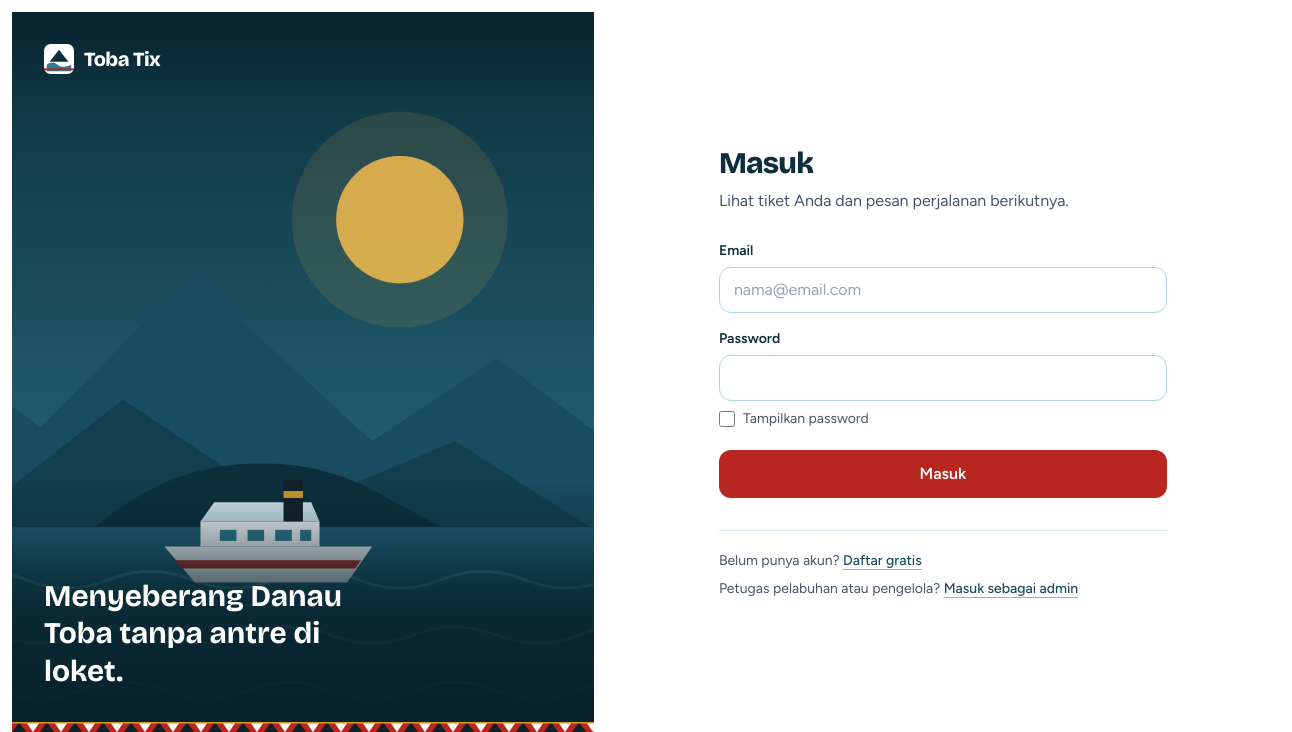
Test case: LoginPage › login gagal menampilkan pesan dan error per field, tetap di halaman login
This screenshot has width=1292, height=732.
Type "budi@test.com" into the field with id "username" at (943, 290), box [719,267,1167,313]
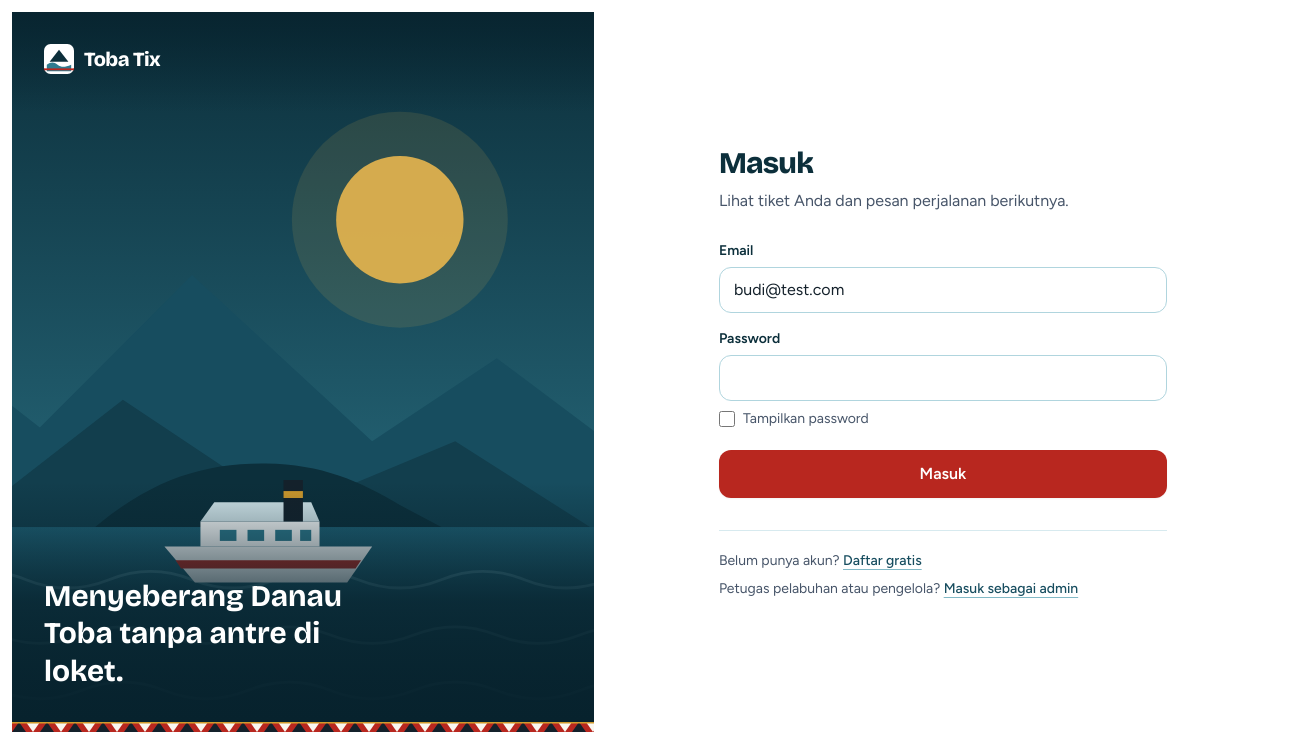
Type "salah" into the password field labelled "Password" at (943, 378), box [719,355,1167,401]
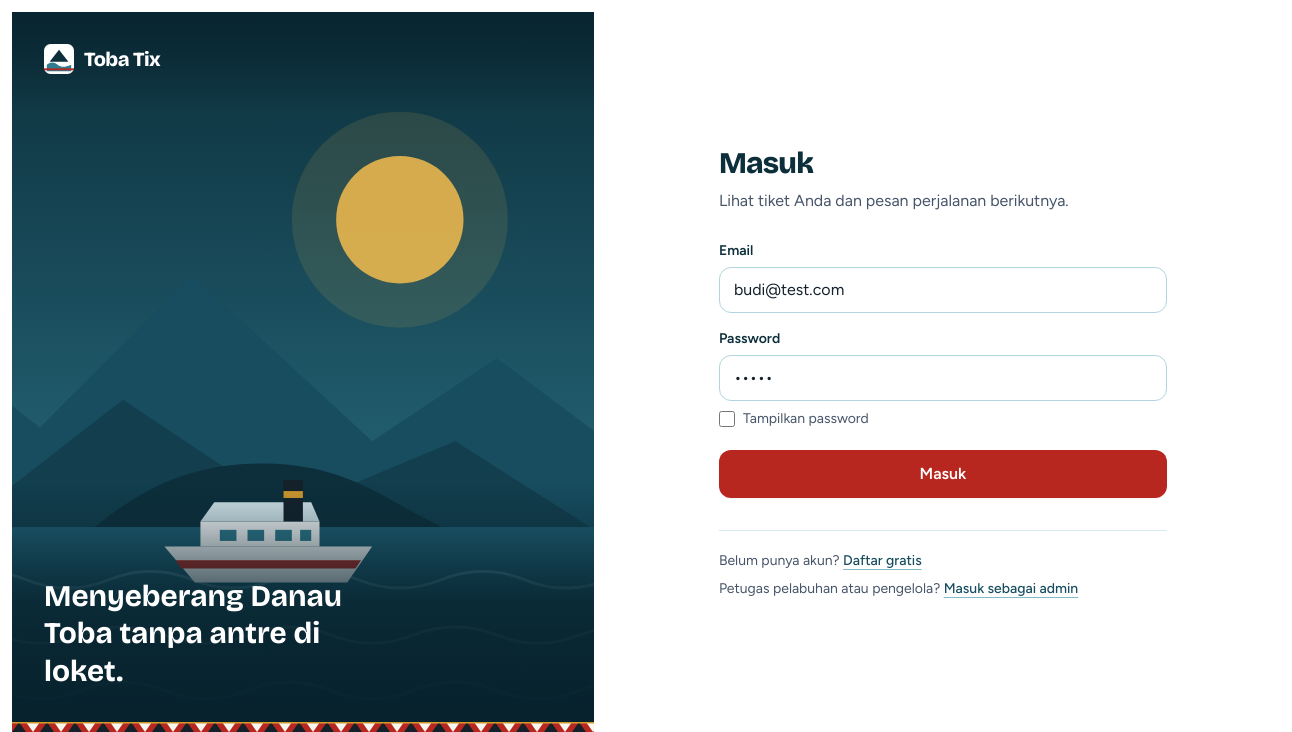
Submit the form, box [719,241,1167,498]
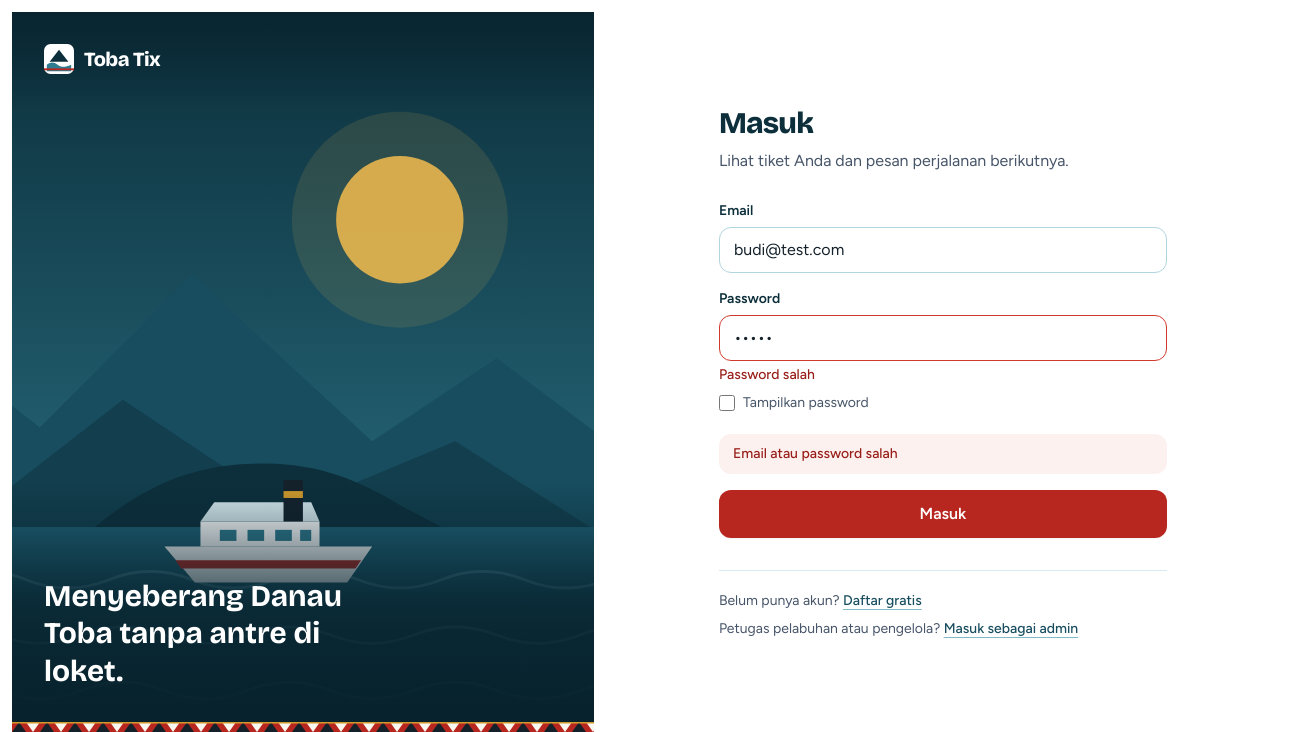
Check: the text "Email atau password salah" is shown, box [719,434,1167,474]
Check: the text "Password salah" is shown, box [719,366,815,383]
